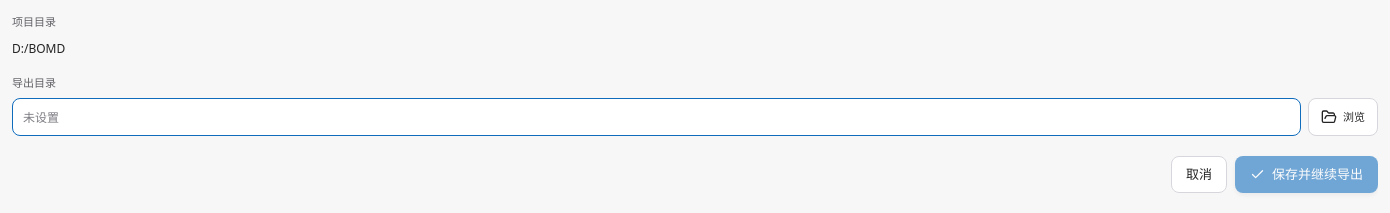
Test: visual export locations › opens the destination system picker only on an explicit click
Click the button with aria-label "浏览导出目录" at (1343, 117), box [1308,98,1378,136]
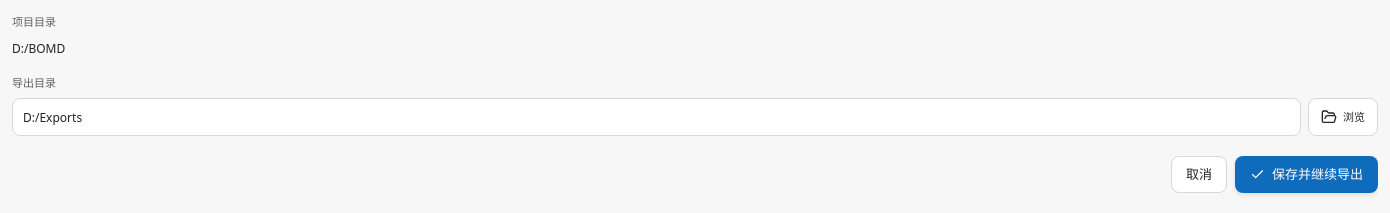
Expected: the field labelled "导出目录" holds "D:/Exports", [12,98,1301,136]
